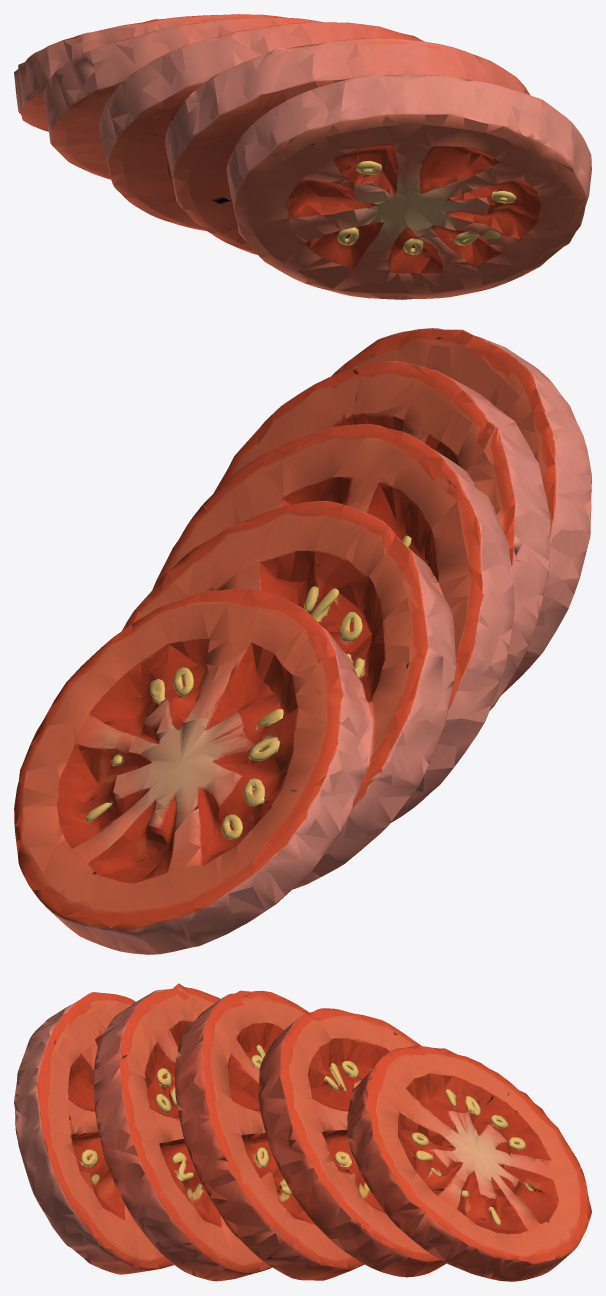
The model's file is new_tomato_4.fbx.
3 renders of one model, top to bottom at view 1: azimuth 30°, elevation 25°; view 2: azimuth 150°, elevation 25°; view 3: azimuth 270°, elevation 25°, orthographic. The views are drawn at different scales.
Visible parts, largest first — view 1: tripo_node_08739e25; view 2: tripo_node_08739e25; view 3: tripo_node_08739e25.
Part boxes in pixels (<box>): tripo_node_08739e25: <box>14,14,591,299</box>; tripo_node_08739e25: <box>14,328,591,954</box>; tripo_node_08739e25: <box>14,983,591,1281</box>.
Size of the model in its own units: 54.9 by 46.23 by 97.91.
Materials: 1 (1 with a texture image).
